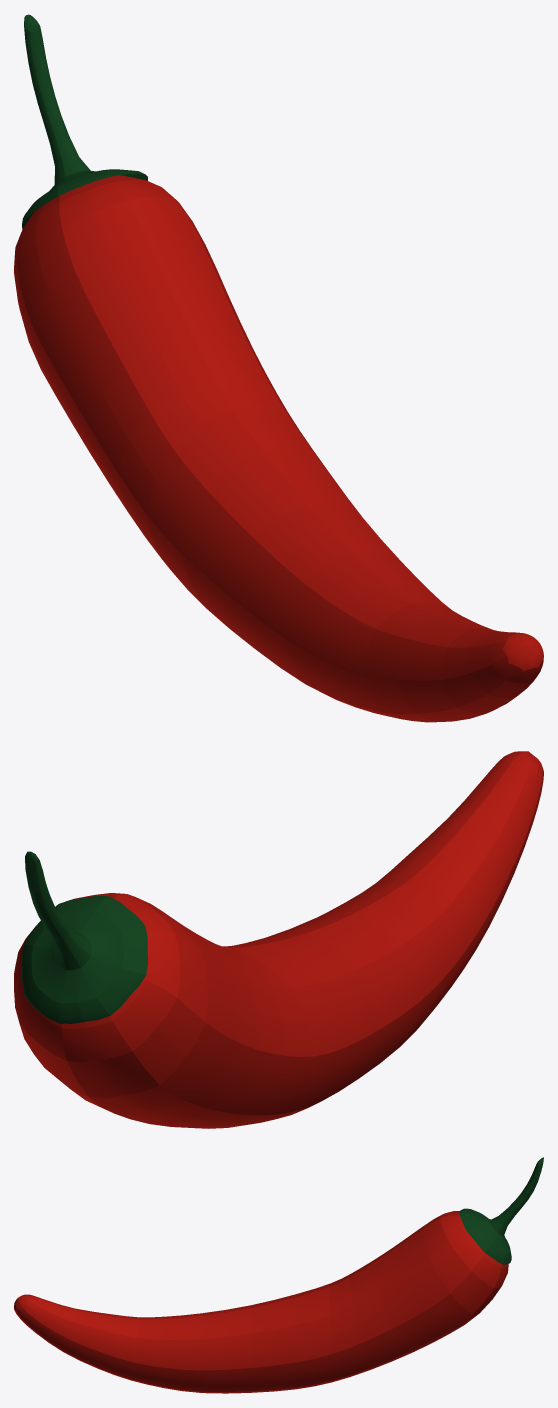
Rendered from pepper (1).fbx.
The picture shows the model from 3 angles, top to bottom: view 1: azimuth 30°, elevation 25°; view 2: azimuth 150°, elevation 25°; view 3: azimuth 270°, elevation 25°; orthographic projection. The views are drawn at different scales.
Parts seen in each view (by area): view 1: RedPepper; view 2: RedPepper; view 3: RedPepper.
Part boxes in pixels (bbox=[...]): RedPepper: bbox=[14, 14, 543, 722]; RedPepper: bbox=[14, 751, 543, 1128]; RedPepper: bbox=[14, 1157, 543, 1393].
Size of the model in its own units: 85.1 by 202 by 416.
